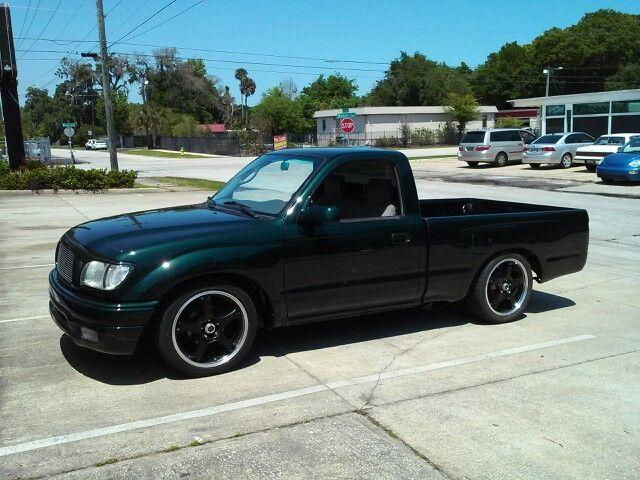pickup-truck: (47, 146, 590, 377)
